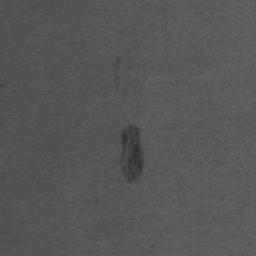Iron scale compression: (121, 126, 145, 184), (113, 57, 121, 92)
